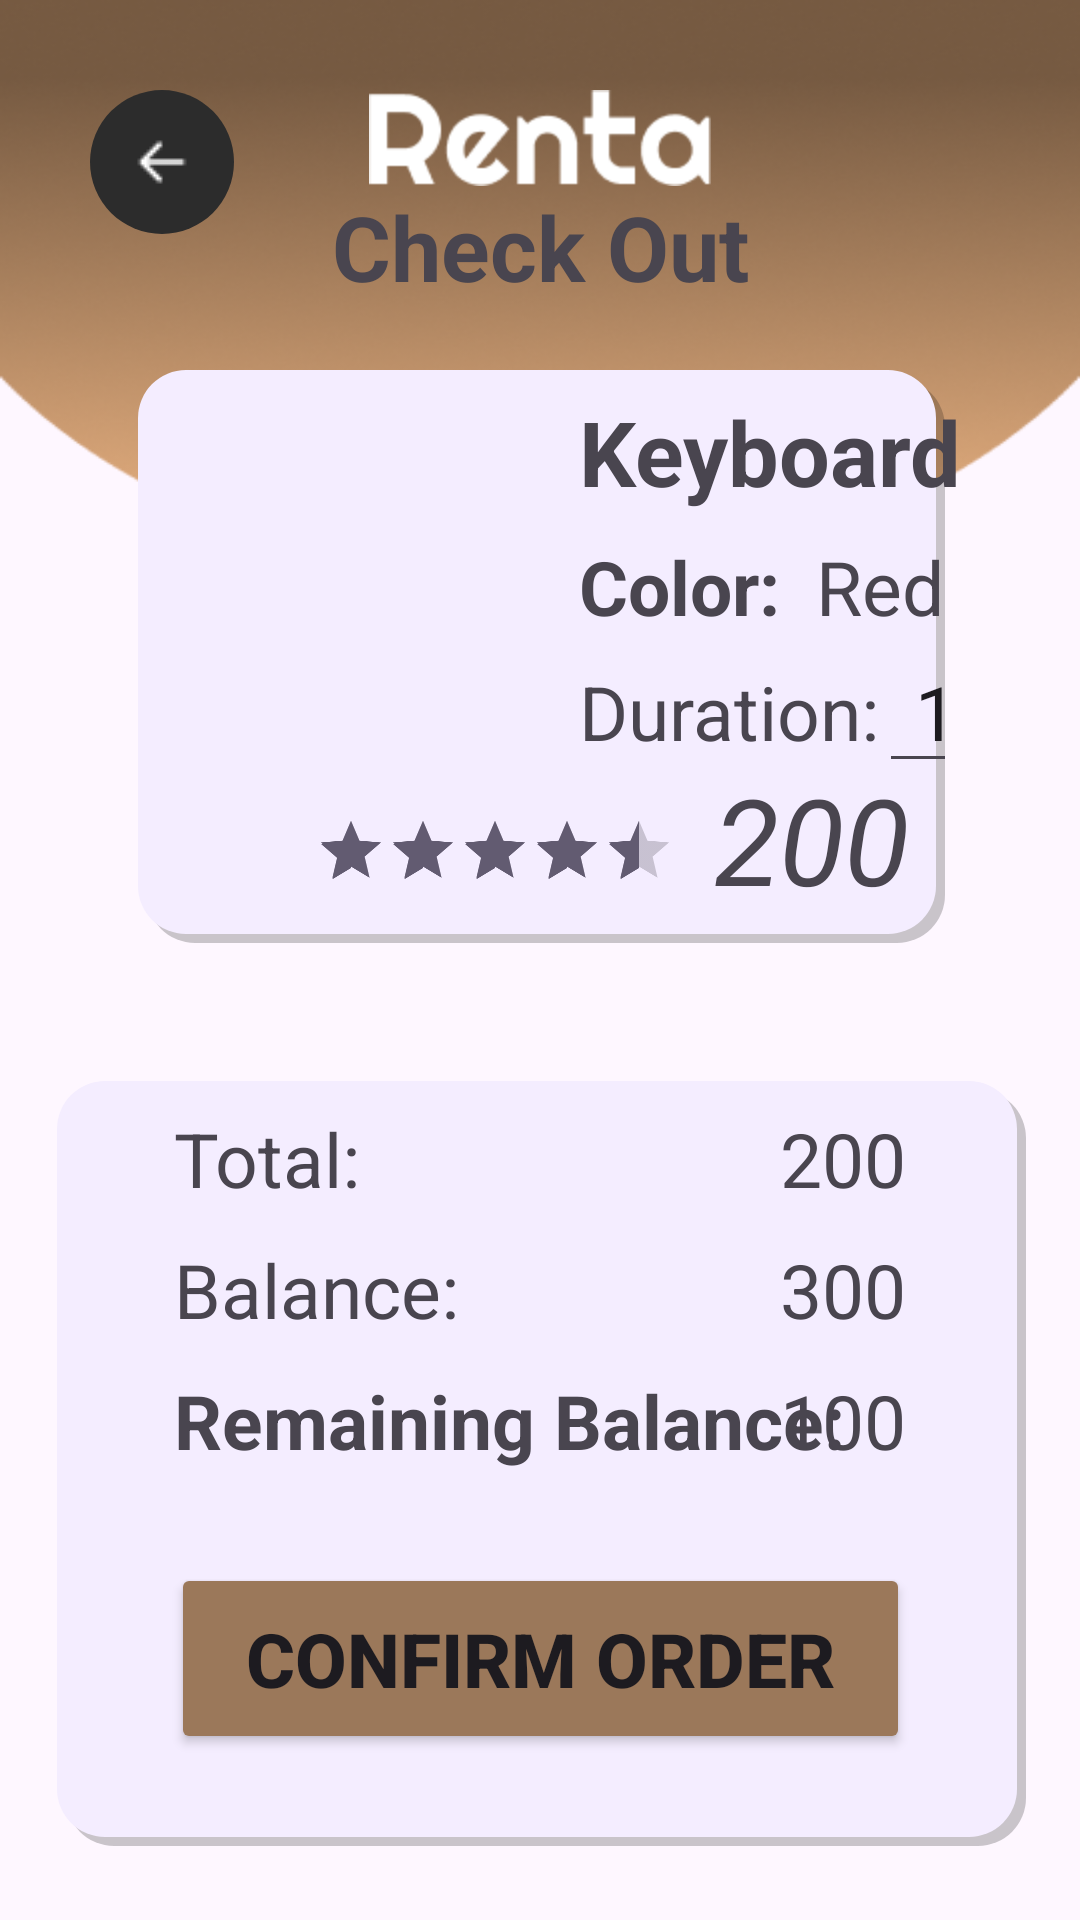

Icon click points for this 1080px x 1920px phone screenshot, format [x,y]:
Return Button: [162,162]
